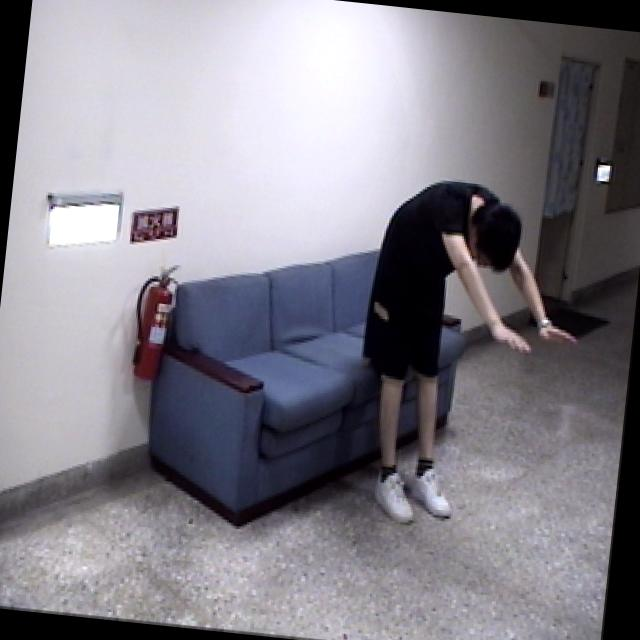bend: (341, 164, 598, 546)
